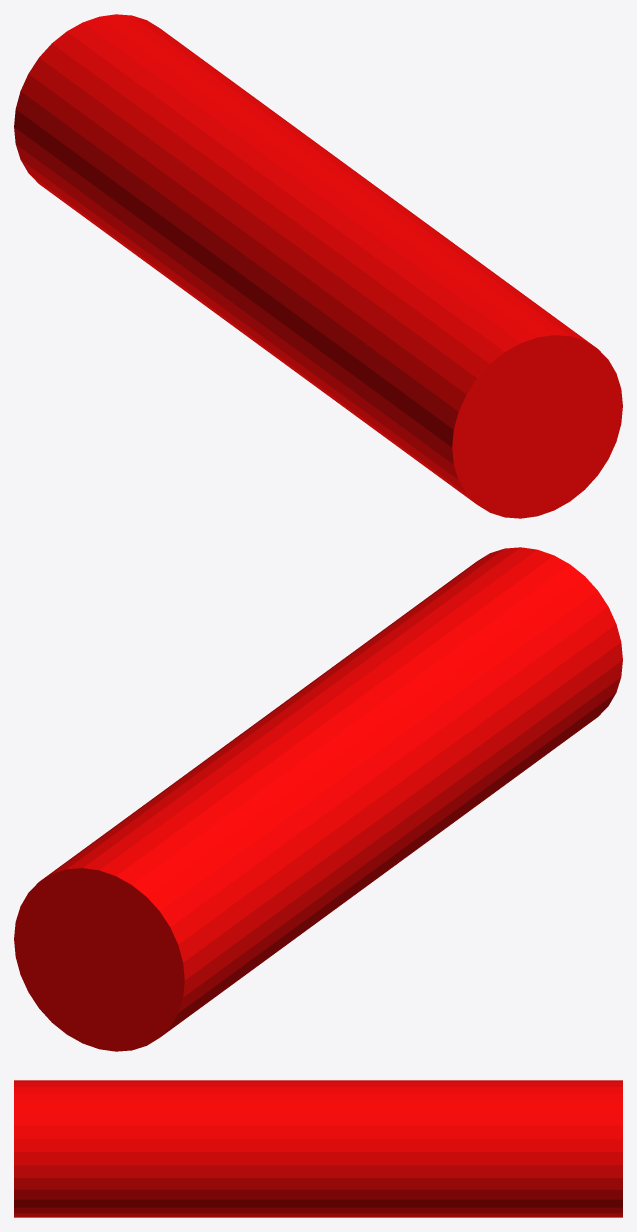
The model's file is wrist_yaw_0091_collision_geometric.obj.
The picture shows the model from 3 angles, top to bottom: view 1: azimuth 30°, elevation 25°; view 2: azimuth 150°, elevation 25°; view 3: azimuth 270°, elevation 25°; orthographic projection. The views are drawn at different scales.
Parts seen in each view (by area): view 1: wrist_yaw_collision_elliptic_cylinder; view 2: wrist_yaw_collision_elliptic_cylinder; view 3: wrist_yaw_collision_elliptic_cylinder.
Boxes of the visible parts, x1,y1,x2,y2 form: wrist_yaw_collision_elliptic_cylinder: (14,14,622,518); wrist_yaw_collision_elliptic_cylinder: (14,547,622,1051); wrist_yaw_collision_elliptic_cylinder: (14,1080,622,1217).
Bounding box in the file's own units: 0.00123 × 0.00123 × 0.00546.
